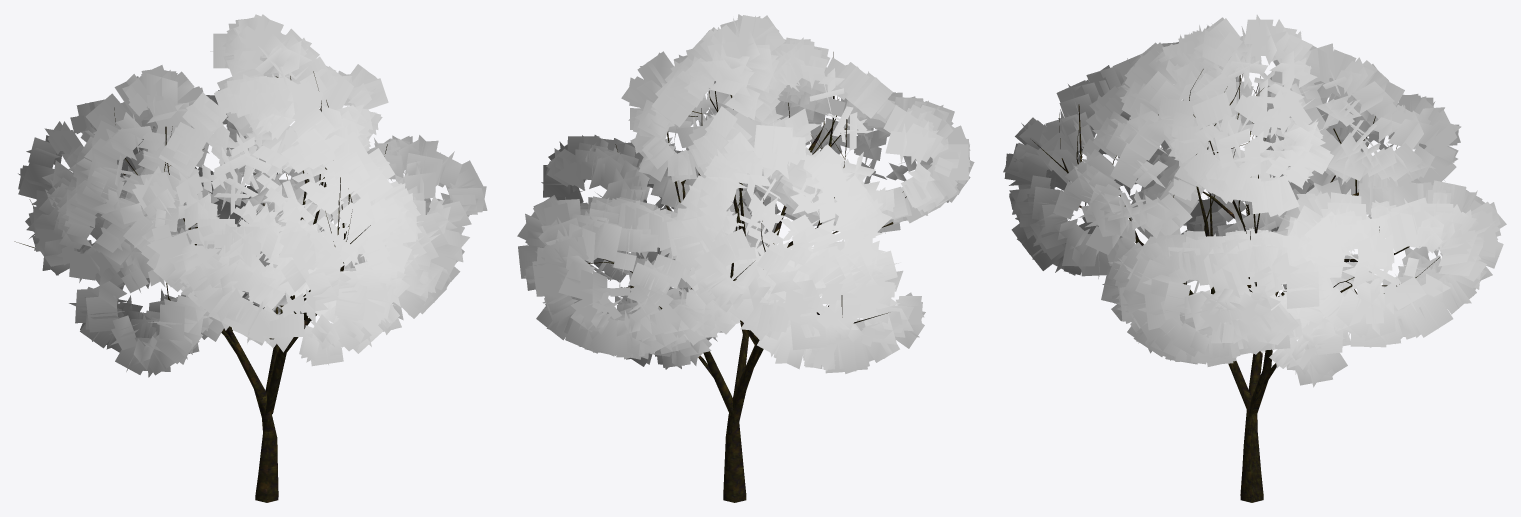
File: Tree2.fbx
3 renders of one model, left to right at view 1: azimuth 30°, elevation 25°; view 2: azimuth 150°, elevation 25°; view 3: azimuth 270°, elevation 25°, orthographic.
Parts seen in each view (by area): view 1: leaves, tree; view 2: leaves, tree; view 3: leaves, tree.
Boxes of the visible parts, x1,y1,x2,y2 form: leaves: [18, 14, 487, 377]; tree: [14, 71, 387, 502]; leaves: [517, 14, 974, 373]; tree: [588, 52, 906, 502]; leaves: [1003, 14, 1506, 387]; tree: [1032, 69, 1439, 502].
Size of the model in its own units: 6.26 by 6.77 by 7.09.
